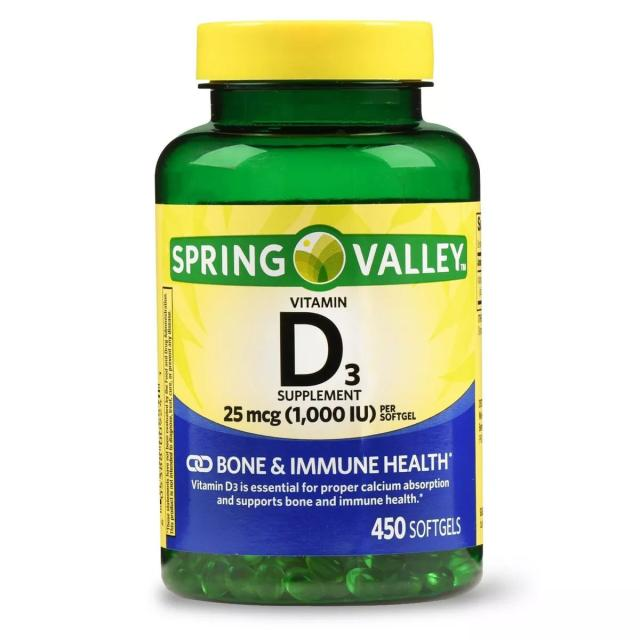food-supliment: (165, 148, 480, 599)
